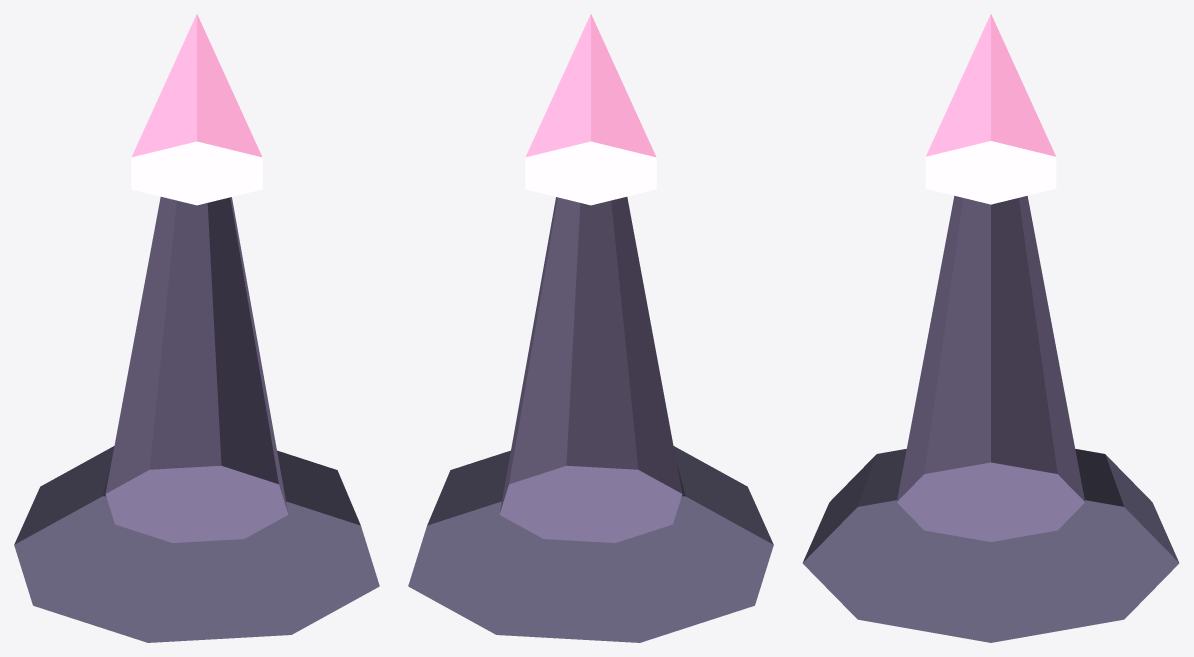
The model's file is spire.gltf.
3 renders of one model, left to right at view 1: azimuth 30°, elevation 25°; view 2: azimuth 150°, elevation 25°; view 3: azimuth 270°, elevation 25°, orthographic.
Visible parts, largest first — view 1: Spire; view 2: Spire; view 3: Spire.
Boxes of the visible parts, box(x1,y1,x2,y2) form: Spire: box(14, 14, 379, 642); Spire: box(408, 14, 773, 642); Spire: box(802, 14, 1179, 642).
Size of the model in its own units: 1.4 by 2.25 by 1.4.
